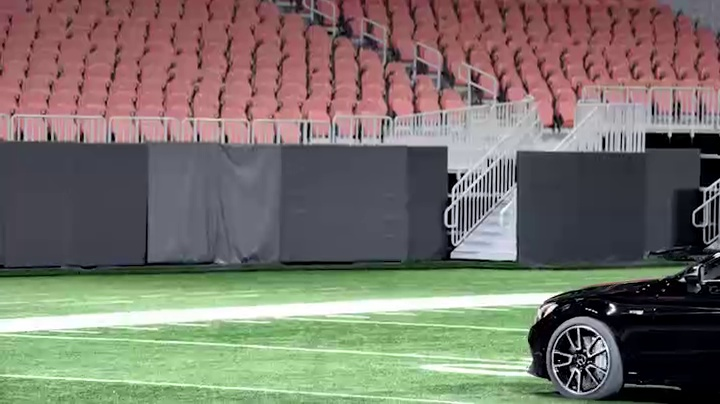amg: (528, 249, 719, 402)
